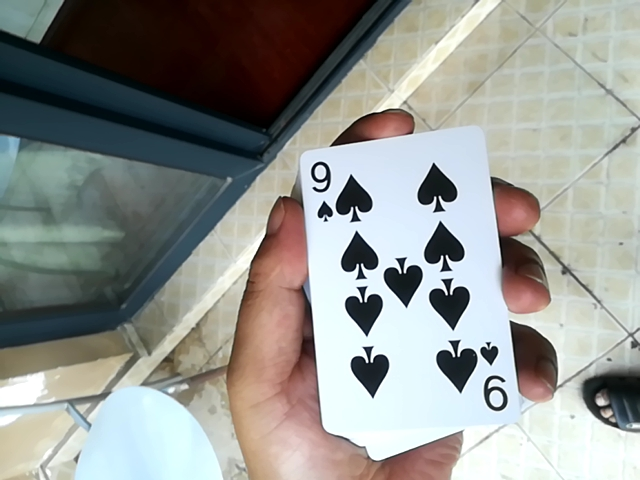ht 9: (300, 124, 514, 454)
